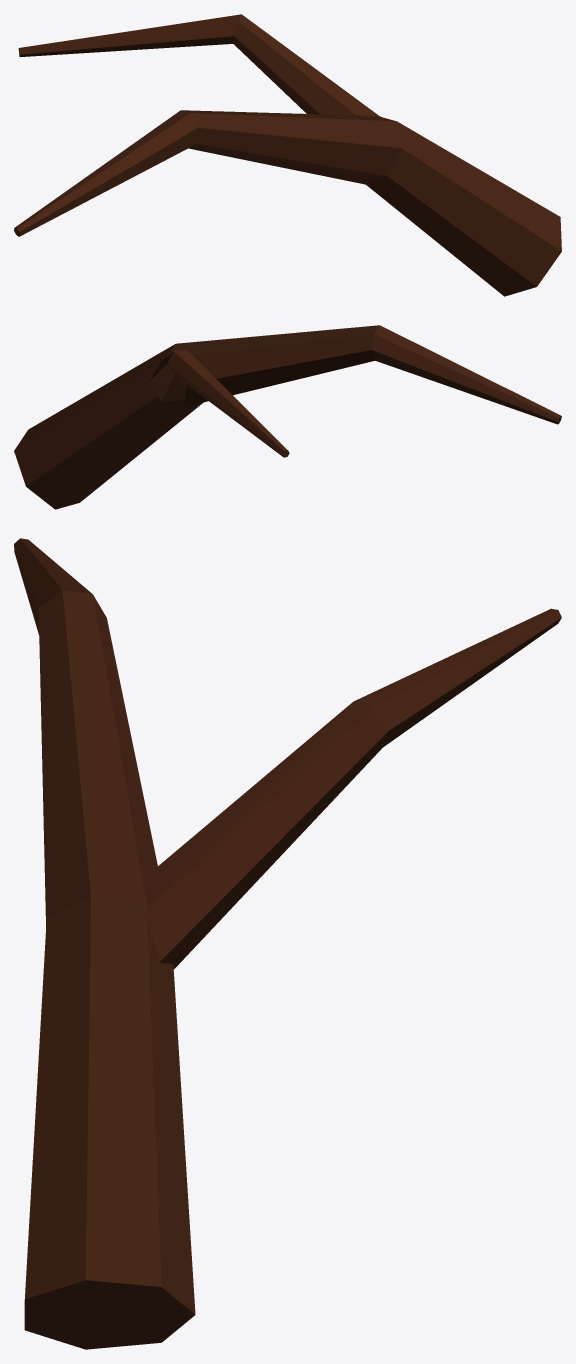
Rendered from N20_Willow_Branch.fbx.
The picture shows the model from 3 angles, top to bottom: view 1: azimuth 30°, elevation 25°; view 2: azimuth 150°, elevation 25°; view 3: azimuth 270°, elevation 25°; orthographic projection. The views are drawn at different scales.
Parts seen in each view (by area): view 1: N20_Willow_Branch; view 2: N20_Willow_Branch; view 3: N20_Willow_Branch.
Part boxes in pixels (bbox=[...]): N20_Willow_Branch: bbox=[14, 14, 561, 296]; N20_Willow_Branch: bbox=[14, 325, 561, 509]; N20_Willow_Branch: bbox=[14, 538, 561, 1349].
Bounding box in the file's own units: 1.69 × 0.7697 × 0.7934.
Materials: 1 (1 with a texture image).
